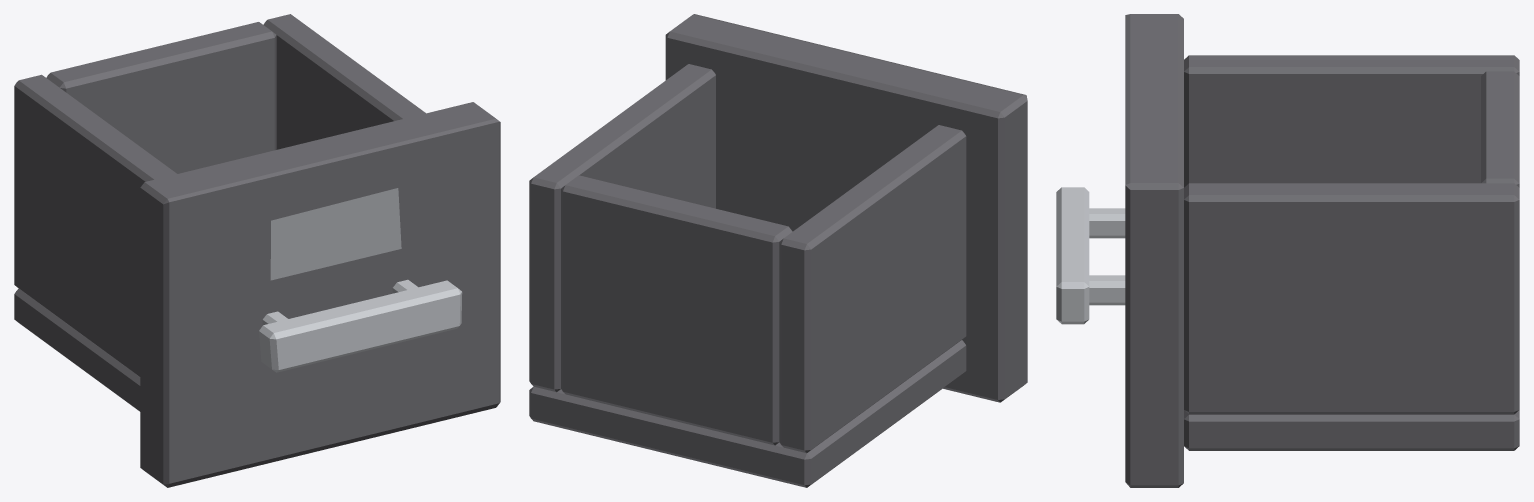
Rendered from Shelving_4_box_4.fbx.
3 renders of one model, left to right at view 1: azimuth 30°, elevation 25°; view 2: azimuth 150°, elevation 25°; view 3: azimuth 270°, elevation 25°, orthographic. The views are drawn at different scales.
Visible parts, largest first — view 1: Shelving_4_box_4; view 2: Shelving_4_box_4; view 3: Shelving_4_box_4.
Boxes of the visible parts, left/top/right/bottom form: Shelving_4_box_4: left=14, top=14, right=500, bottom=487; Shelving_4_box_4: left=529, top=14, right=1027, bottom=487; Shelving_4_box_4: left=1056, top=14, right=1519, bottom=487.
Size of the model in its own units: 0.3336 by 0.2733 by 0.3762.
